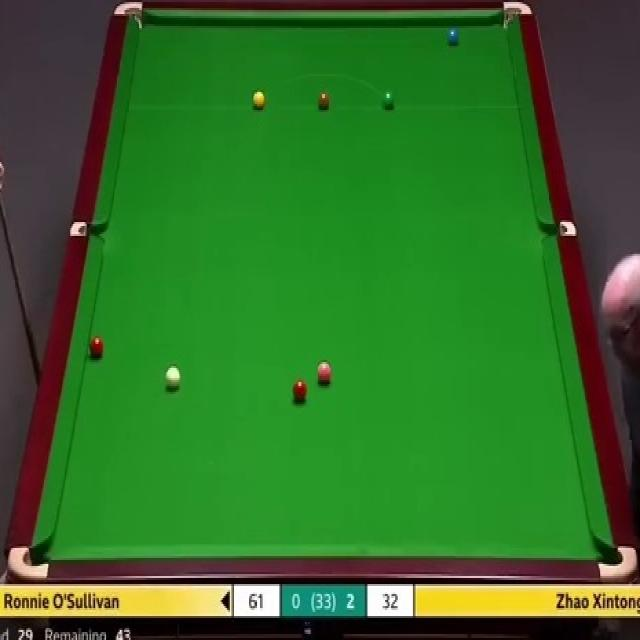blue-ball: (446, 27, 460, 46)
brown-ball: (317, 92, 330, 109)
green-ball: (382, 88, 396, 112)
pink-ball: (316, 361, 330, 385)
red-ball: (89, 335, 105, 358), (292, 378, 307, 401)
white-ball: (164, 366, 182, 388)
yellow-ball: (252, 89, 266, 110)
